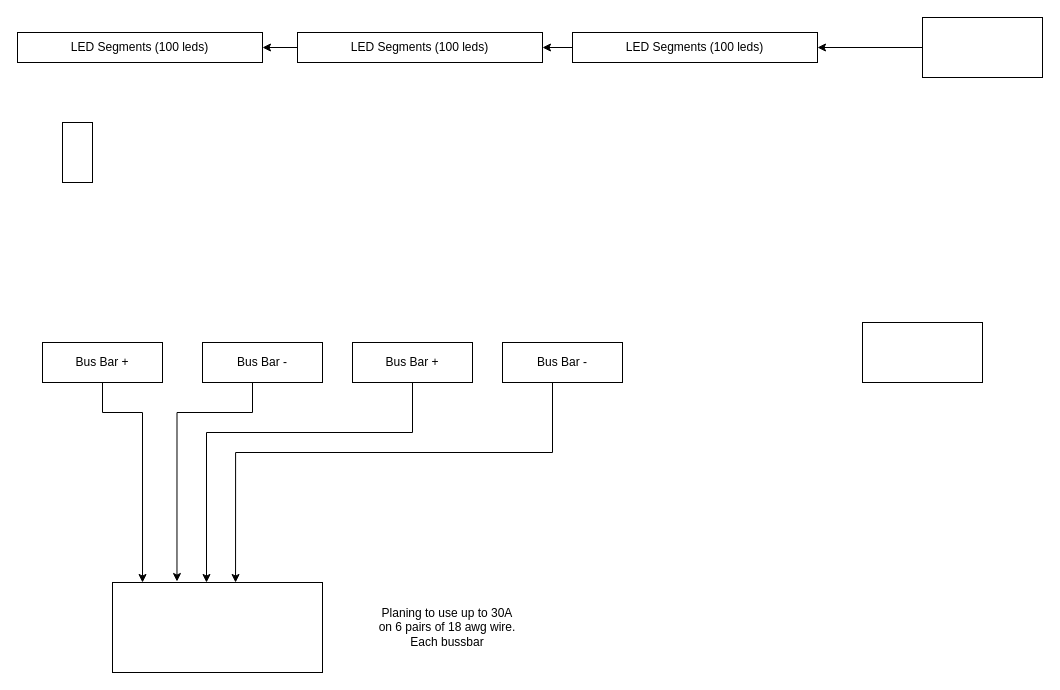
The diagram is 1060 pixels wide and 690 high, and some of its shapes have lost their labels. The centre of each missing label's shape, as x and y in pixels:
"Control Panel" belongs at pixel 922 352.
"DC Jack" belongs at pixel 77 152.
"Meanwell LRS 200-5 5v 40A" belongs at pixel 217 627.
"PCB board Itsy Bits 32u4" belongs at pixel 982 47.
